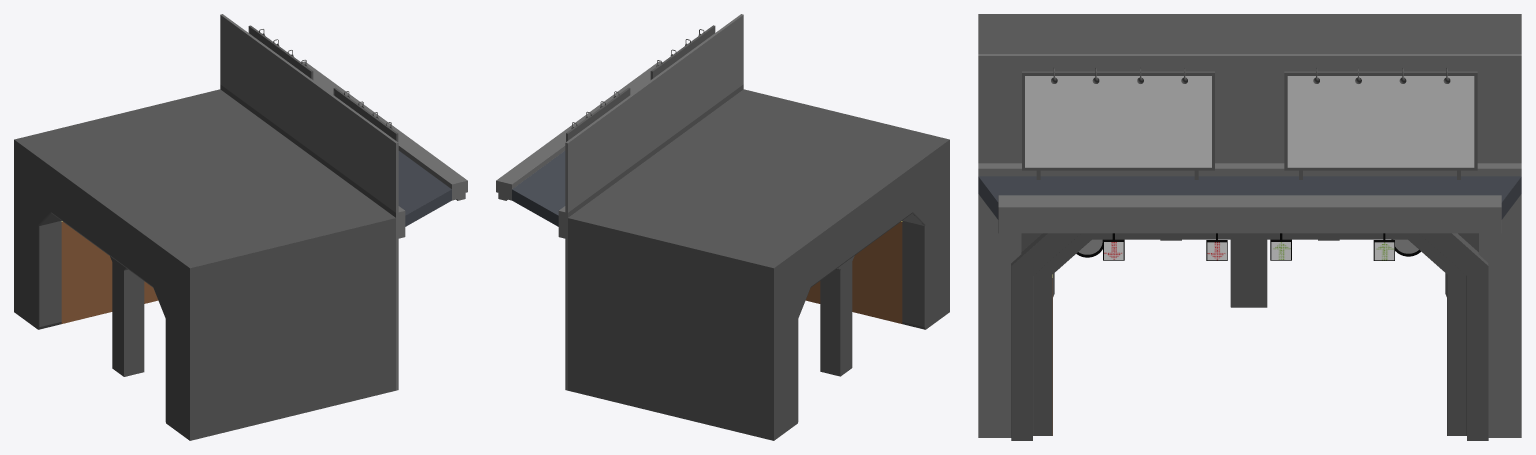
File: SM_ShortTunnelDetailed.fbx
The picture shows the model from 3 angles, left to right: view 1: azimuth 30°, elevation 25°; view 2: azimuth 150°, elevation 25°; view 3: azimuth 270°, elevation 25°; orthographic projection. The views are drawn at different scales.
Visible parts, largest first — view 1: Cube.031, Cube.010, Cube.003, Cube.005; view 2: Cube.031, Cube.010, Cube.003, Cube.005; view 3: Cube.031, Cube.005, Cube.003, Cube.010.
Boxes of the visible parts, x1=… form: Cube.031: x1=14, y1=14, x2=467, y2=440; Cube.010: x1=110, y1=256, x2=144, y2=376; Cube.003: x1=333, y1=87, x2=398, y2=141; Cube.005: x1=248, y1=25, x2=313, y2=79; Cube.031: x1=496, y1=14, x2=949, y2=440; Cube.010: x1=820, y1=255, x2=854, y2=376; Cube.003: x1=650, y1=25, x2=715, y2=79; Cube.005: x1=566, y1=87, x2=630, y2=141; Cube.031: x1=978, y1=14, x2=1521, y2=440; Cube.005: x1=1284, y1=67, x2=1477, y2=179; Cube.003: x1=1022, y1=67, x2=1214, y2=179; Cube.010: x1=1230, y1=239, x2=1267, y2=307.
Bounding box in the file's own units: 941 × 782 × 1008.
